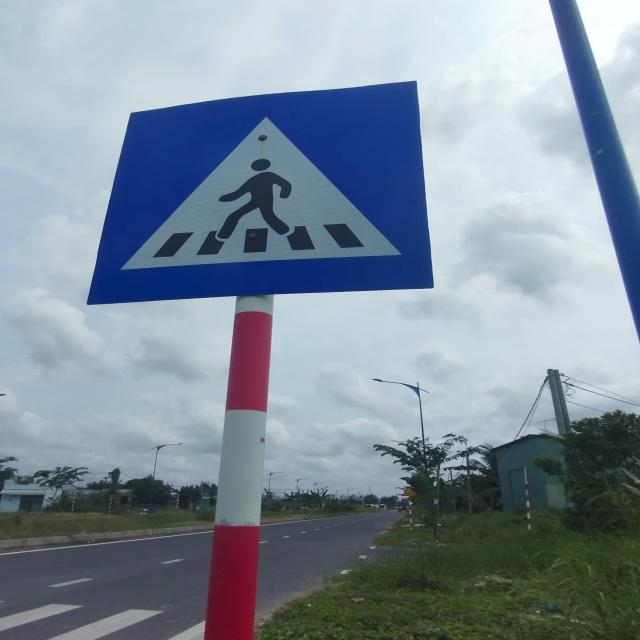Giao_Nhau_Duong_Uu_Tien: (86, 80, 435, 304)
